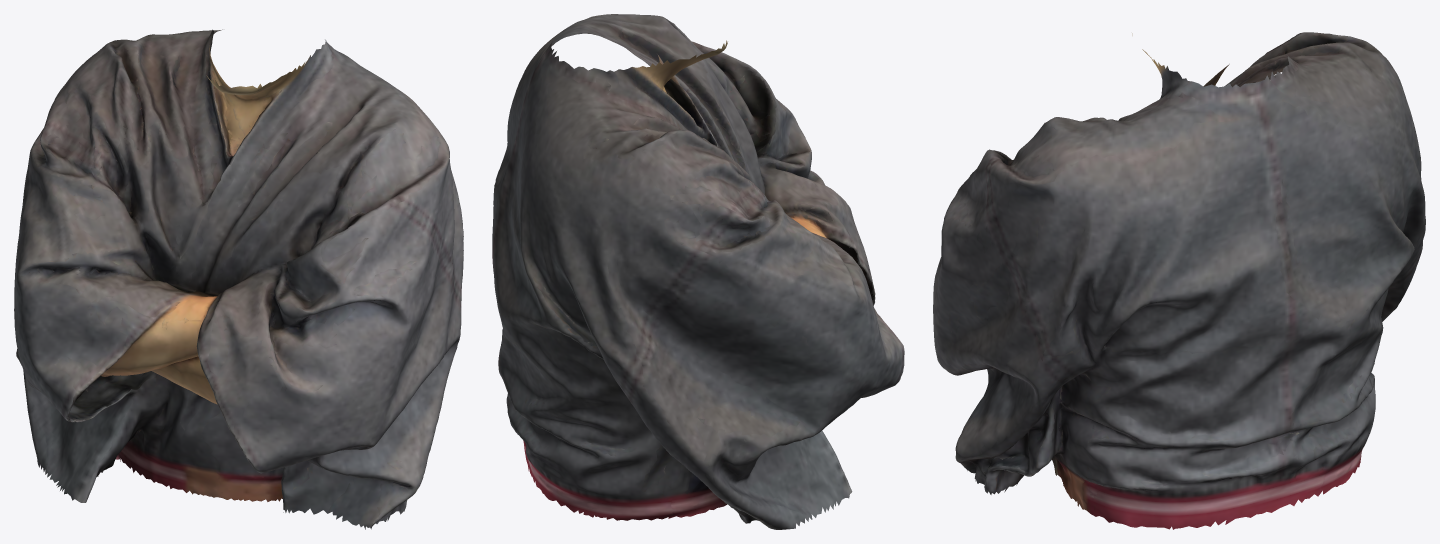
The model's file is nagase_torso.glb.
The picture shows the model from 3 angles, left to right: view 1: azimuth 30°, elevation 25°; view 2: azimuth 150°, elevation 25°; view 3: azimuth 270°, elevation 25°; orthographic projection. The views are drawn at different scales.
Parts seen in each view (by area): view 1: torso; view 2: torso; view 3: torso.
Boxes of the visible parts, box(x1,y1,x2,y2) form: torso: box(14, 29, 463, 529); torso: box(492, 14, 904, 529); torso: box(933, 32, 1425, 529).
Bounding box in the file's own units: 7.23 × 7.23 × 7.56.
1 material, 1 textured.
